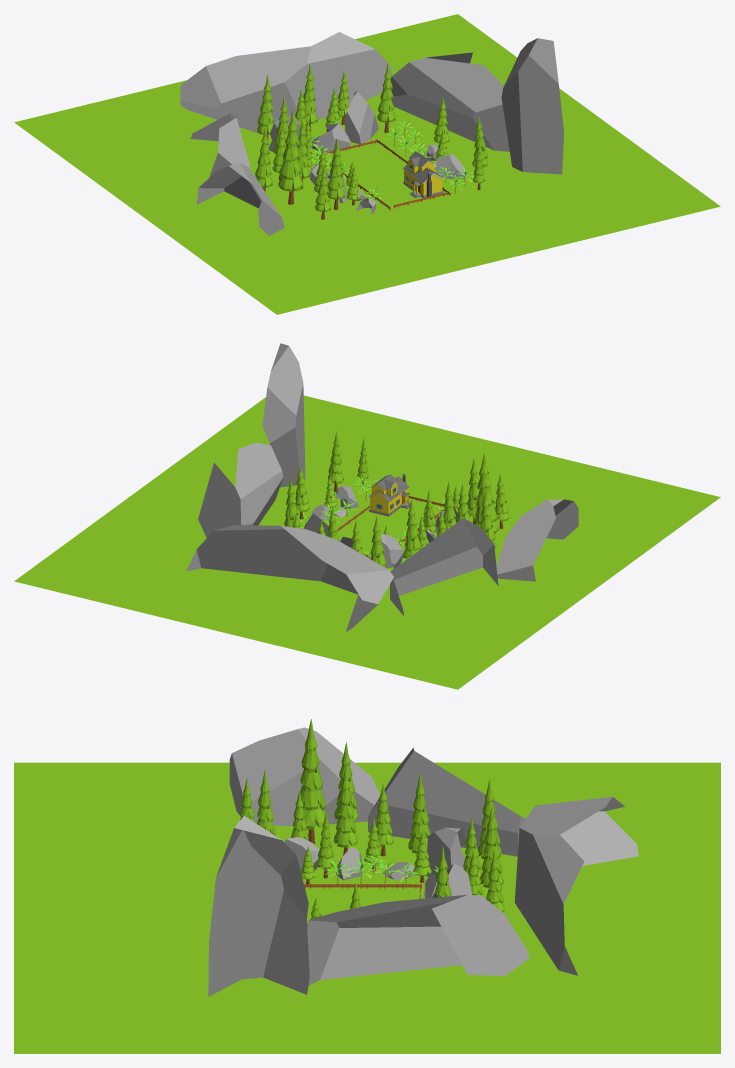
File: worldTwo.glb
The picture shows the model from 3 angles, top to bottom: view 1: azimuth 30°, elevation 25°; view 2: azimuth 150°, elevation 25°; view 3: azimuth 270°, elevation 25°; orthographic projection. The views are drawn at different scales.
Parts seen in each view (by area): view 1: Plane, Cube.018, Cube.010, Cube.022, Cube.023, Cube.021, House Complete.001, Lowpoly_Tree_09.023, Cube.009, Cube.007, Lowpoly_Tree_09.011, Lowpoly_Tree_09.021 (+4 smaller); view 2: Plane, Cube.018, Cube.010, Cube.021, Cube.022, Cube.023, House Complete.001, Lowpoly_Tree_09.023, Lowpoly_Tree_09.016; view 3: Plane, Cube.010, Cube.022, Cube.018, Cube.023, Cube.021, Lowpoly_Tree_09.023, Cube.019, Lowpoly_Tree_09.008, Lowpoly_Tree_09.016, Lowpoly_Tree_09.018, Lowpoly_Tree_09.020 (+8 smaller).
Part boxes in pixels (x1=…): Plane: x1=14, y1=14, x2=720, y2=314; Cube.018: x1=180, y1=32, x2=391, y2=133; Cube.010: x1=390, y1=52, x2=509, y2=151; Cube.022: x1=501, y1=38, x2=563, y2=174; Cube.023: x1=196, y1=162, x2=284, y2=235; Cube.021: x1=190, y1=113, x2=250, y2=177; House Complete.001: x1=403, y1=151, x2=443, y2=198; Lowpoly_Tree_09.023: x1=278, y1=109, x2=303, y2=204; Cube.009: x1=345, y1=91, x2=378, y2=143; Cube.007: x1=311, y1=123, x2=350, y2=152; Lowpoly_Tree_09.011: x1=377, y1=62, x2=395, y2=132; Lowpoly_Tree_09.021: x1=327, y1=140, x2=345, y2=209; Plane: x1=14, y1=395, x2=720, y2=689; Cube.018: x1=186, y1=525, x2=393, y2=631; Cube.010: x1=198, y1=442, x2=283, y2=537; Cube.021: x1=390, y1=518, x2=498, y2=615; Cube.022: x1=262, y1=343, x2=305, y2=487; Cube.023: x1=496, y1=499, x2=578, y2=581; House Complete.001: x1=368, y1=474, x2=410, y2=516; Lowpoly_Tree_09.023: x1=474, y1=453, x2=498, y2=533; Lowpoly_Tree_09.016: x1=403, y1=500, x2=420, y2=558; Plane: x1=14, y1=762, x2=720, y2=1053; Cube.010: x1=307, y1=894, x2=529, y2=985; Cube.022: x1=208, y1=816, x2=309, y2=996; Cube.018: x1=514, y1=796, x2=638, y2=975; Cube.023: x1=229, y1=727, x2=380, y2=826; Cube.021: x1=368, y1=748, x2=525, y2=856; Lowpoly_Tree_09.023: x1=300, y1=719, x2=325, y2=844; Cube.019: x1=426, y1=827, x2=464, y2=876; Lowpoly_Tree_09.008: x1=333, y1=767, x2=357, y2=855; Lowpoly_Tree_09.016: x1=408, y1=772, x2=430, y2=853; Lowpoly_Tree_09.018: x1=480, y1=807, x2=503, y2=887; Lowpoly_Tree_09.020: x1=376, y1=783, x2=393, y2=856.
Bounding box in the file's own units: 278 × 78.19 × 285.
13 materials, 1 textured.
